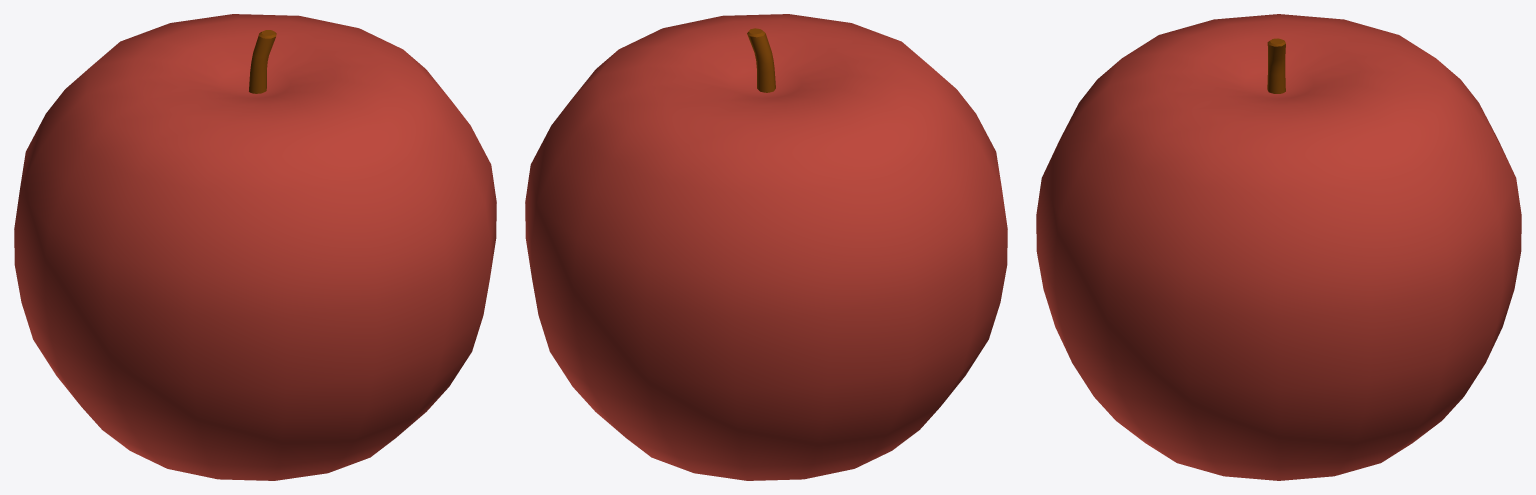
File: macanoca.fbx
3 views of the same model, side by side, from view 1: azimuth 30°, elevation 25°; view 2: azimuth 150°, elevation 25°; view 3: azimuth 270°, elevation 25° (orthographic).
Parts seen in each view (by area): view 1: maca_lp, Cylinder.001; view 2: maca_lp, Cylinder.001; view 3: maca_lp, Cylinder.001.
Part boxes in pixels (box(x1,y1,x2,y2)): maca_lp: box(14, 14, 496, 480); Cylinder.001: box(249, 30, 276, 93); maca_lp: box(525, 14, 1007, 480); Cylinder.001: box(747, 28, 775, 92); maca_lp: box(1036, 14, 1521, 480); Cylinder.001: box(1267, 38, 1285, 93).
Size of the model in its own units: 345 by 320 by 345.
